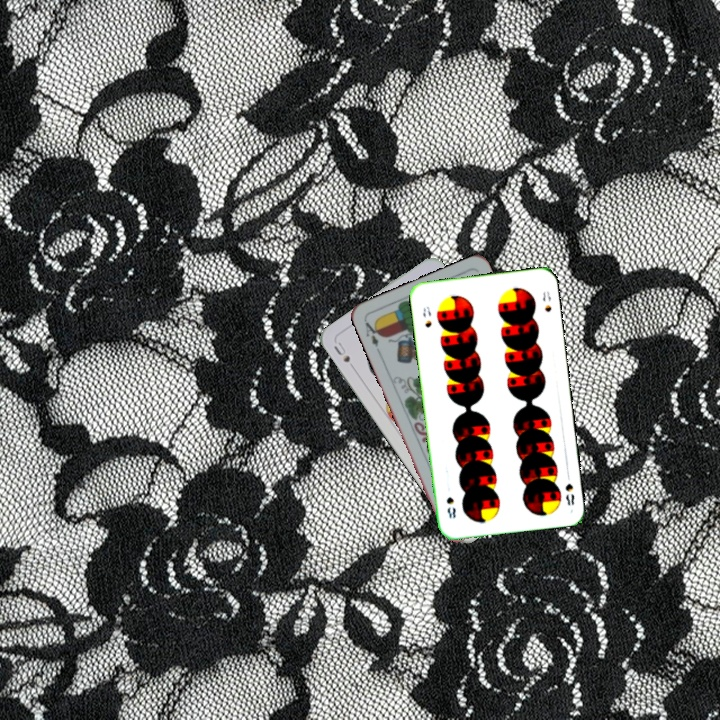EA: (361, 317, 384, 355)
S8: (561, 469, 577, 508), (419, 303, 434, 330)
SU: (330, 338, 359, 374)
